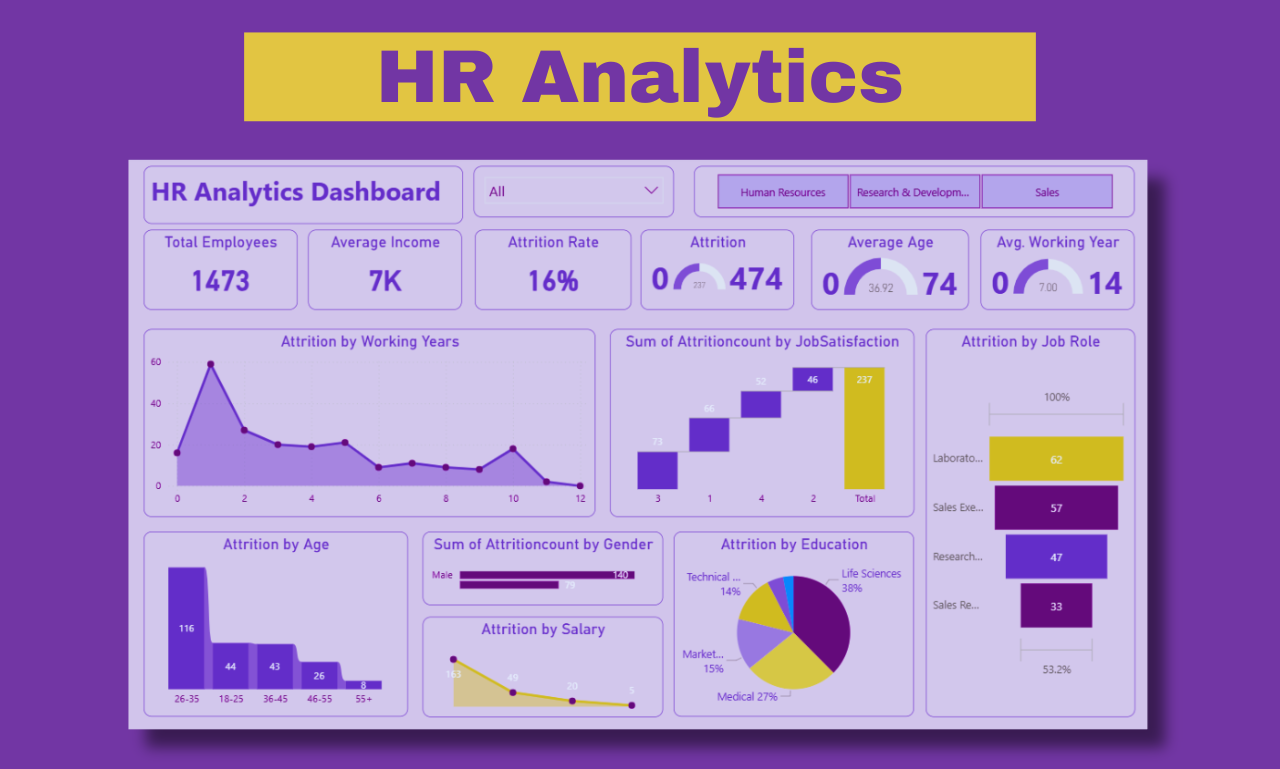

The page's visual inventory and layout, read from the dashboard file:
{"tool":"powerbi","page":{"name":"Duplicate of Page 1","canvas":[1280,720],"ordinal":0},"visuals":[{"type":"card","title":"Total Employees","fields":{"Values":["CountNonNull(HR_Analytics.EmpID)"]},"box":[21.9,93.1,191.7,100],"z":0},{"type":"gauge","title":"Attrition","fields":{"Y":["Sum(HR_Analytics.Attritioncount)"]},"box":[642.4,93.8,192.2,100],"z":1000},{"type":"card","title":"Attrition Rate","fields":{"Values":["HR_Analytics.Attritionrate"]},"box":[435.2,93.1,195,100],"z":2000},{"type":"gauge","title":"Average Age","fields":{"Y":["Avg(HR_Analytics.Age)"]},"box":[855,93.8,196.9,100],"z":3000},{"type":"card","title":"Average Income","fields":{"Values":["Avg(HR_Analytics.MonthlyIncome)"]},"box":[228.2,93.8,192.2,100],"z":4000},{"type":"gauge","title":"Avg. Working Year","fields":{"Y":["Avg(HR_Analytics.YearsAtCompany)"]},"box":[1066.9,93.1,191.7,100],"z":5000},{"type":"pieChart","title":"Attrition by Education","fields":{"Category":["HR_Analytics.EducationField"],"Y":["Sum(HR_Analytics.Attritioncount)"]},"box":[684.6,470.5,300.1,231.3],"z":6000},{"type":"ribbonChart","title":"Attrition by Age","fields":{"Y":["Sum(HR_Analytics.Attritioncount)"],"Category":["HR_Analytics.AgeGroup"]},"box":[21.9,470.5,329.8,231.3],"z":7000},{"type":"waterfallChart","fields":{"Category":["HR_Analytics.JobRole","HR_Analytics.JobSatisfaction"],"Y":["Sum(HR_Analytics.Attritioncount)"]},"box":[604.9,217.3,379.8,234.4],"z":8000},{"type":"areaChart","title":"Attrition by Salary","fields":{"Category":["HR_Analytics.SalarySlab"],"Y":["Sum(HR_Analytics.Attritioncount)"]},"box":[370.4,576.7,300.1,125],"z":9000},{"type":"areaChart","title":"Attrition by Working Years","fields":{"Category":["HR_Analytics.YearsAtCompany"],"Y":["Sum(HR_Analytics.Attritioncount)"]},"box":[21.9,217.3,564.2,234.4],"z":10000},{"type":"funnel","title":"Attrition by Job Role","fields":{"Category":["HR_Analytics.JobRole"],"Y":["Sum(HR_Analytics.Attritioncount)"]},"box":[998.7,217.3,261,484.5],"z":11000},{"type":"barChart","fields":{"Category":["HR_Analytics.Gender"],"Y":["Sum(HR_Analytics.Attritioncount)"]},"box":[370.4,470.5,300.1,92.2],"z":12000},{"type":"slicer","fields":{"Values":["HR_Analytics.Department"]},"box":[709.6,14.1,550.2,64.1],"z":13000},{"type":"textbox","box":[21.9,14.1,398.6,71.9],"z":14000},{"type":"slicer","fields":{"Values":["HR_Analytics.EducationField"]},"box":[434.5,14.1,250.1,64.1],"z":15000}]}

Visuals, with their boxes on the page's 1280x720 design canvas (x1, y1, x2, y2). These are canvas units, not pixel positions in the 1280x769 screenshot, which may show the page scaled, cropped or inside an application window:
"Total Employees" card: locate(22, 93, 214, 193)
"Attrition" gauge: locate(642, 94, 835, 194)
"Attrition Rate" card: locate(435, 93, 630, 193)
"Average Age" gauge: locate(855, 94, 1052, 194)
"Average Income" card: locate(228, 94, 420, 194)
"Avg. Working Year" gauge: locate(1067, 93, 1259, 193)
"Attrition by Education" pieChart: locate(685, 470, 985, 702)
"Attrition by Age" ribbonChart: locate(22, 470, 352, 702)
waterfallChart - HR_Analytics.JobRole x HR_Analytics.JobSatisfaction: locate(605, 217, 985, 452)
"Attrition by Salary" areaChart: locate(370, 577, 670, 702)
"Attrition by Working Years" areaChart: locate(22, 217, 586, 452)
"Attrition by Job Role" funnel: locate(999, 217, 1260, 702)
barChart - HR_Analytics.Gender x Sum(HR_Analytics.Attritioncount): locate(370, 470, 670, 563)
slicer - HR_Analytics.Department: locate(710, 14, 1260, 78)
textbox: locate(22, 14, 420, 86)
slicer - HR_Analytics.EducationField: locate(434, 14, 685, 78)
